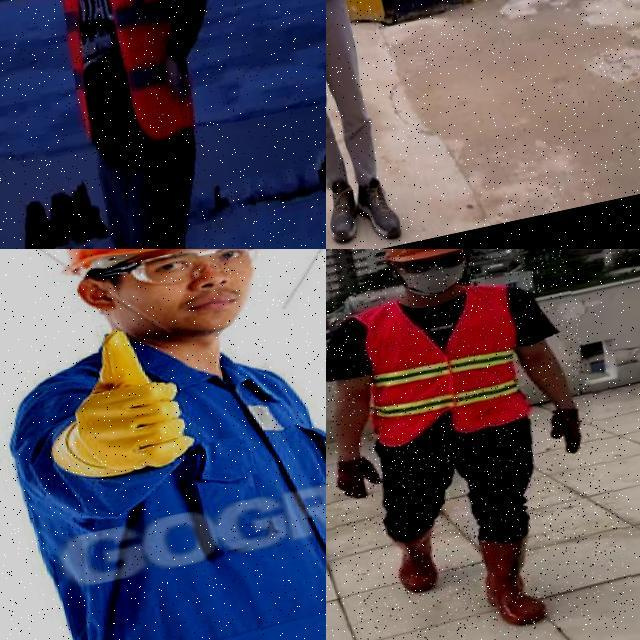boots: (476, 530, 552, 632), (382, 528, 446, 598), (352, 170, 406, 244), (326, 172, 365, 244)
helmet: (35, 249, 289, 287), (375, 249, 477, 270)
vest: (348, 282, 530, 450), (34, 0, 203, 156)
